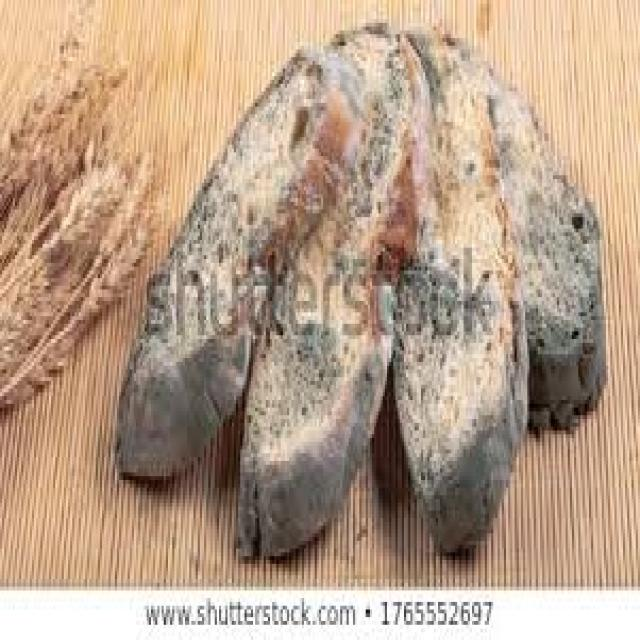organic waste: (113, 42, 359, 480), (236, 19, 427, 552), (387, 23, 525, 552), (446, 27, 604, 430), (0, 152, 159, 411), (2, 54, 123, 255), (0, 0, 87, 210)
